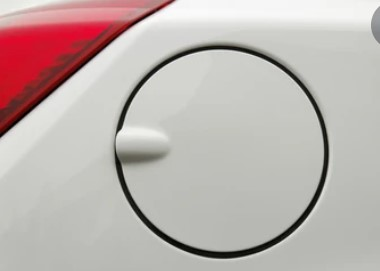closed: (110, 38, 350, 262)
